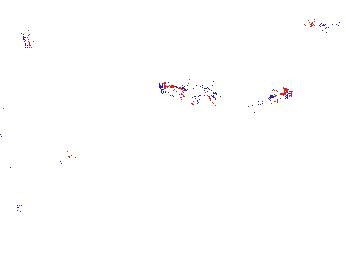red belly glassfish: (155, 77, 222, 107), (244, 86, 293, 109), (303, 15, 343, 33)
redtail glassfish: (13, 145, 75, 210), (1, 7, 41, 49)
